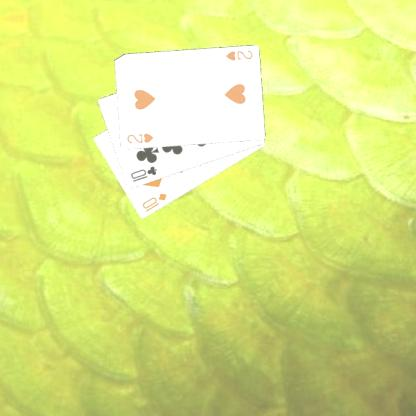10C: (128, 164, 158, 184)
10D: (140, 190, 168, 214)
2H: (124, 130, 155, 145), (222, 48, 254, 62)
